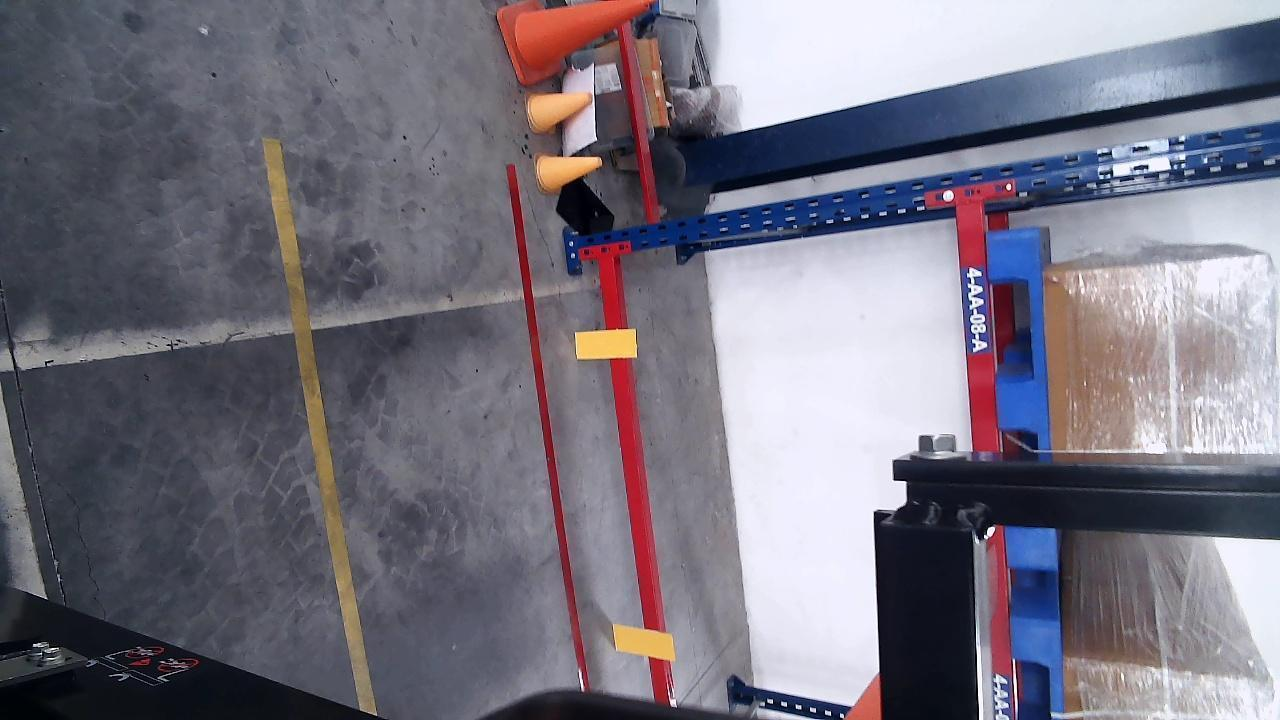red_line: (504, 163, 590, 691)
yellow_line: (262, 140, 379, 716)
